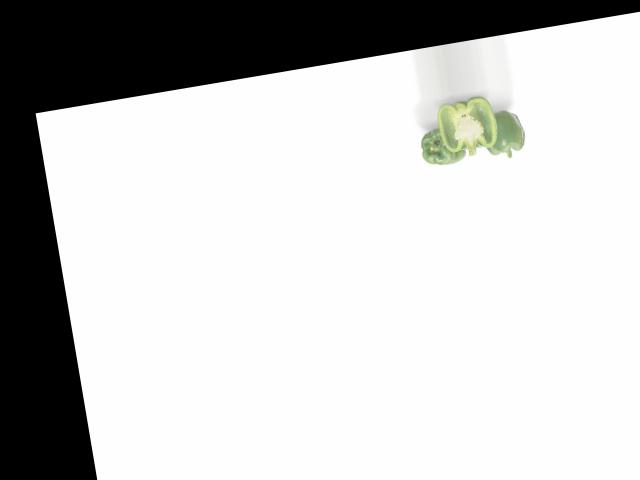bell_pepper: (413, 118, 472, 173)
